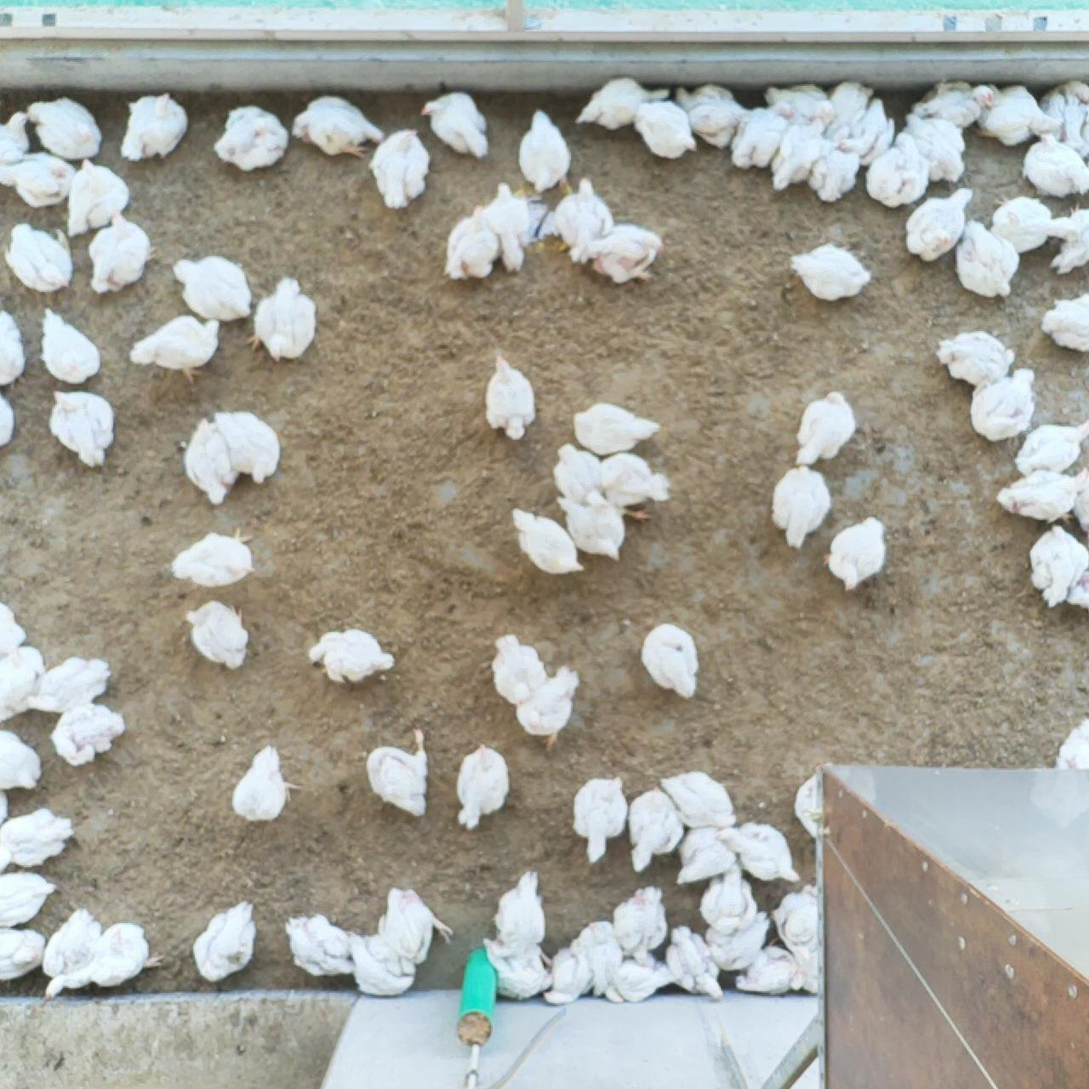chicken: (40, 923, 167, 999), (549, 488, 654, 559), (172, 527, 263, 590), (907, 180, 977, 261), (292, 94, 380, 158), (510, 501, 584, 577), (251, 276, 315, 363), (381, 889, 453, 966), (213, 102, 288, 174), (47, 385, 111, 469), (722, 817, 801, 884), (132, 314, 218, 375), (821, 513, 887, 592), (368, 729, 430, 813), (989, 193, 1069, 258), (65, 161, 132, 238), (311, 625, 391, 689), (492, 868, 548, 959), (287, 909, 358, 980), (997, 467, 1087, 523), (552, 180, 614, 261), (195, 904, 261, 980), (770, 465, 830, 548), (231, 747, 298, 821), (176, 253, 250, 320), (580, 77, 670, 132), (216, 407, 280, 484), (88, 214, 148, 296), (39, 911, 117, 974), (1020, 130, 1089, 201), (23, 99, 102, 161), (49, 705, 121, 773), (864, 133, 931, 206), (484, 355, 538, 445), (787, 242, 872, 299), (982, 87, 1058, 150), (9, 220, 74, 293), (670, 921, 727, 1004), (373, 125, 430, 208), (678, 84, 753, 147), (38, 306, 101, 381), (419, 89, 487, 158), (348, 927, 419, 993), (955, 221, 1014, 300), (641, 625, 702, 701), (735, 940, 805, 1006), (481, 934, 552, 999), (184, 419, 237, 505), (572, 405, 665, 454), (180, 602, 249, 668), (492, 637, 557, 707), (456, 745, 512, 826), (29, 657, 113, 711), (1, 810, 77, 869), (584, 224, 660, 283), (938, 328, 1014, 386), (516, 109, 569, 192), (629, 785, 680, 870), (797, 390, 853, 466), (972, 370, 1030, 443), (515, 670, 572, 744), (575, 778, 624, 864), (596, 451, 677, 503), (917, 80, 999, 131), (664, 771, 736, 829), (909, 111, 964, 185), (1014, 424, 1089, 478), (123, 96, 186, 159), (730, 105, 795, 166), (446, 204, 496, 282), (765, 118, 823, 185), (767, 78, 840, 131), (552, 442, 613, 505), (704, 911, 767, 970), (1033, 524, 1080, 603), (609, 953, 676, 1007), (573, 918, 619, 996), (4, 152, 71, 204), (1046, 78, 1089, 159), (615, 889, 662, 963), (488, 184, 527, 271), (778, 887, 812, 986), (639, 104, 698, 161), (702, 870, 755, 932), (683, 825, 738, 881), (1049, 202, 1089, 275), (1, 646, 38, 721), (1, 869, 51, 924), (814, 132, 851, 206), (545, 946, 589, 1008), (1048, 292, 1089, 352), (832, 85, 870, 148), (1, 733, 43, 787), (858, 100, 893, 164), (1, 925, 37, 984), (1, 106, 30, 168), (1, 307, 24, 384), (1, 598, 26, 653), (1058, 722, 1089, 764), (1, 386, 18, 446), (1070, 558, 1087, 615), (1, 795, 11, 818)
